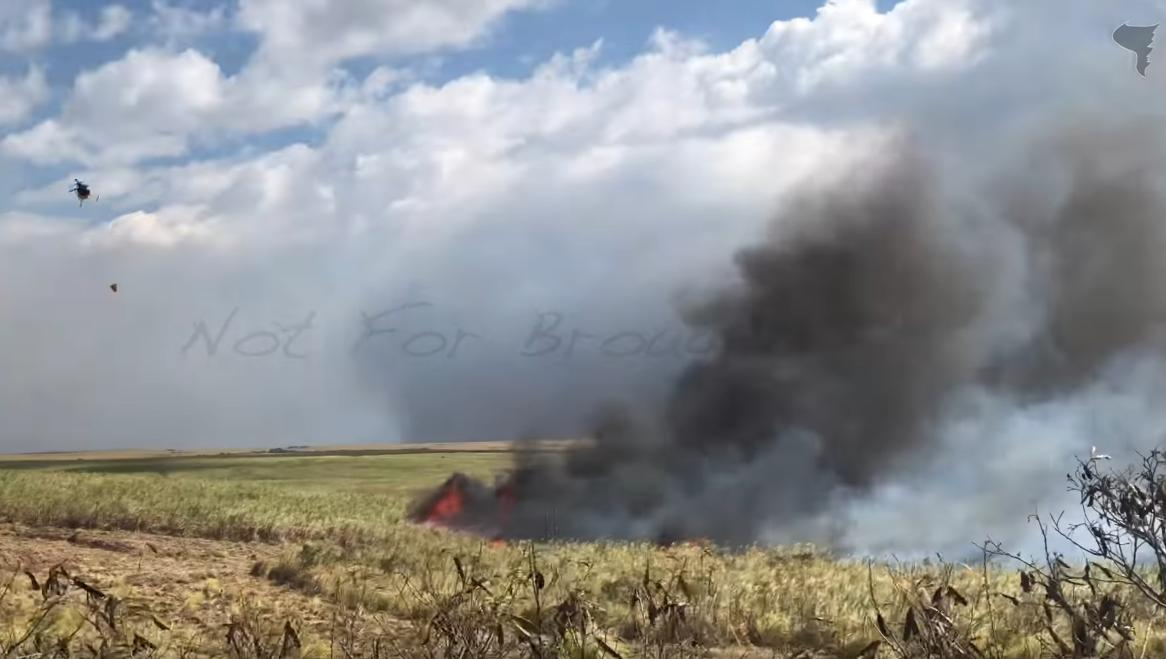smoke: (763, 253, 995, 427)
